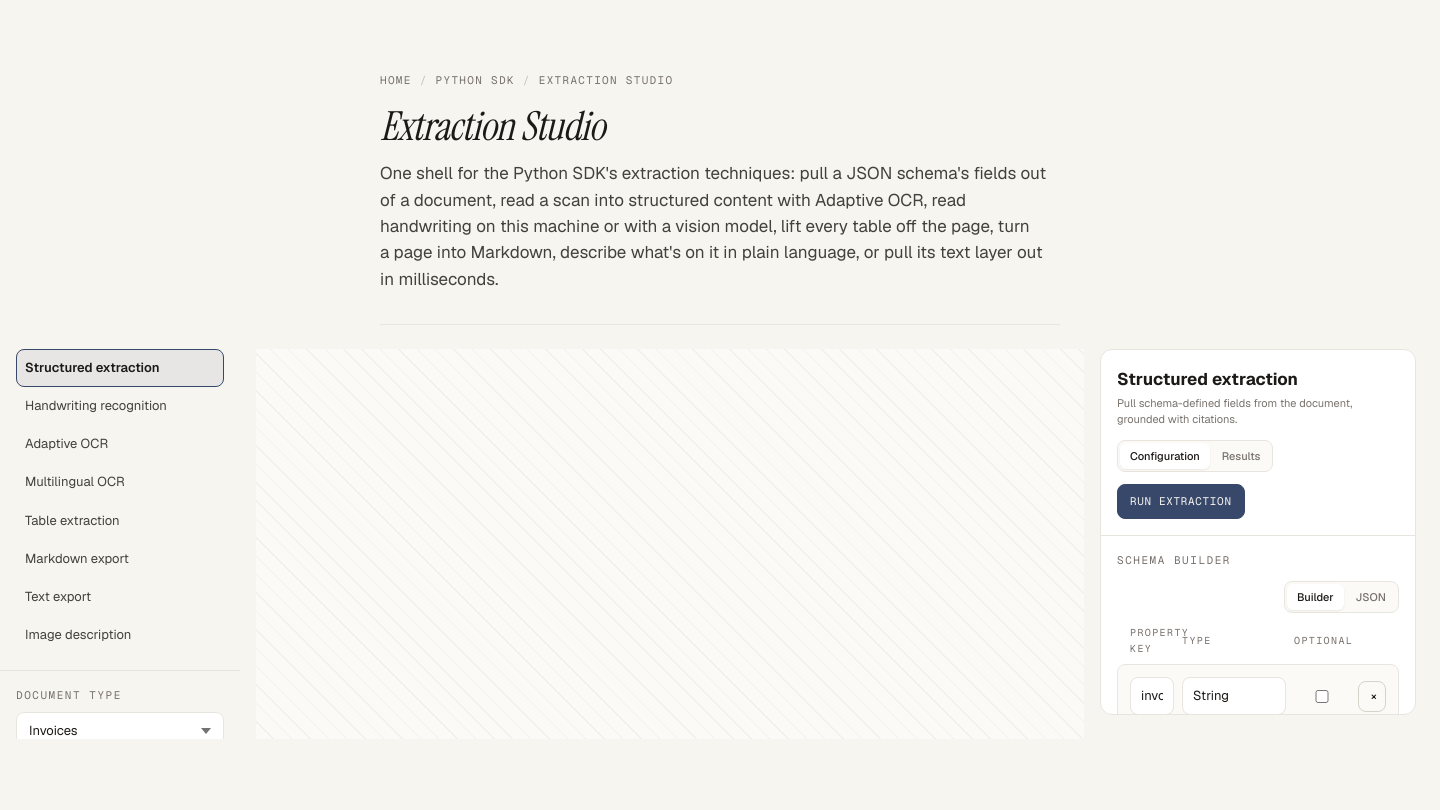
Scenario: Image description is selectable and swaps in its own panel
Click the button "Image description" at (120, 635), box left=16, top=616, right=224, bottom=654
(page scrolled)
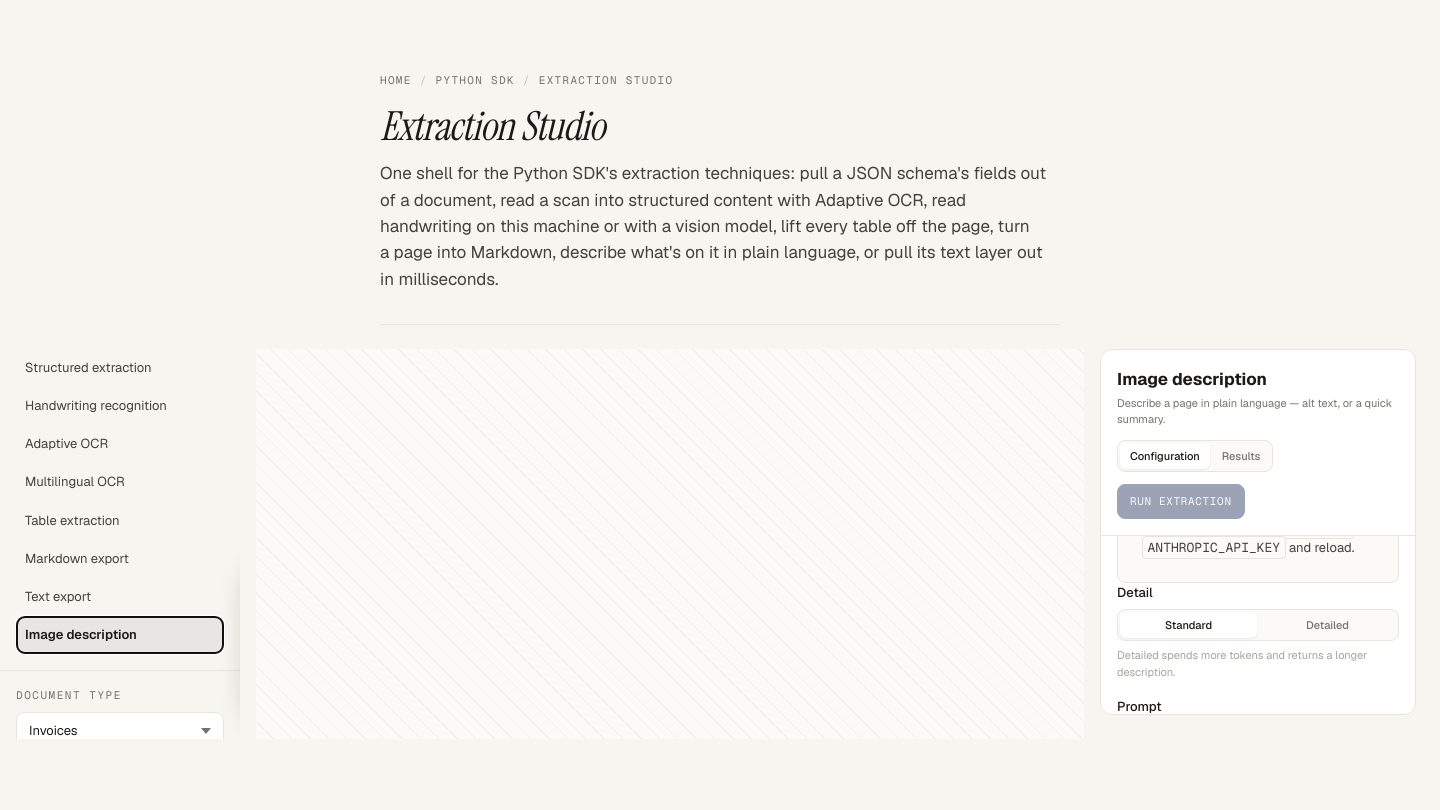
Expected: the element "Detail" is shown, left=1117, top=609, right=1399, bottom=641
